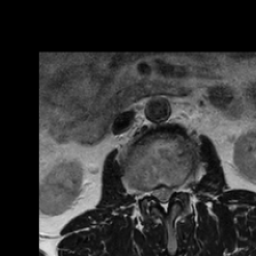CCS_normal: (159, 178, 166, 216)
LFS_stenosis: (175, 177, 183, 202)
LLS_stenosis: (166, 178, 175, 203)
RFS_stenosis: (144, 181, 151, 203)
RLS_stenosis: (151, 179, 159, 204)
